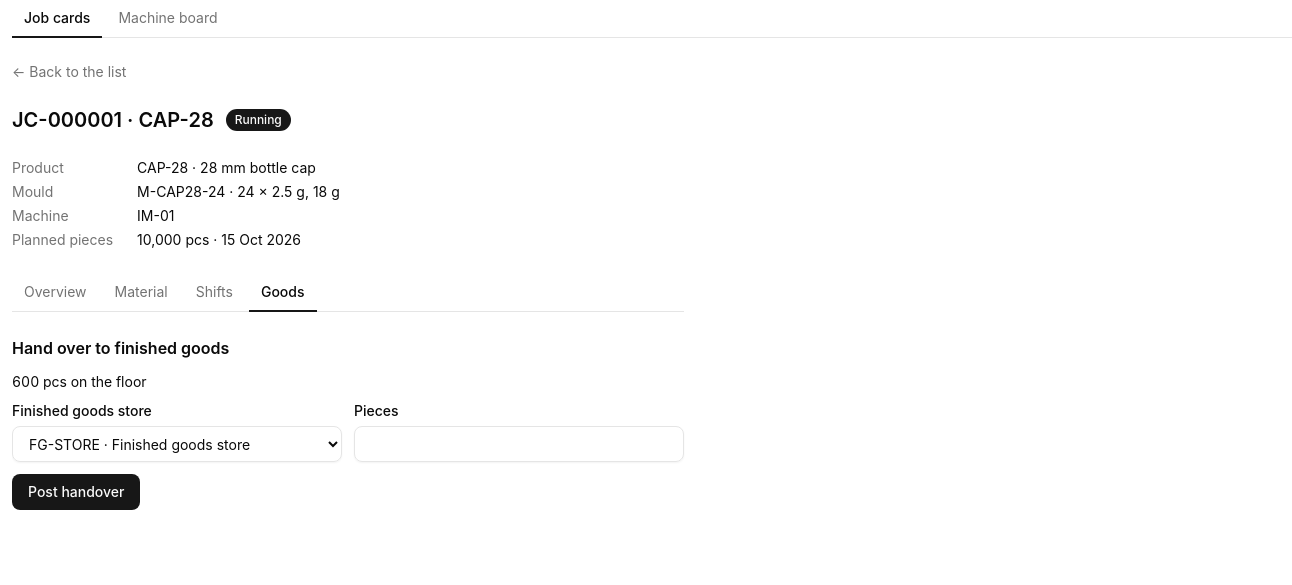
job card page › hands good pieces over to finished goods
Expected: the text "600 pcs on the floor" is shown, [12,373,147,390]
Type "600" into the field labelled "Pieces" at (519, 444), box [354,426,684,462]
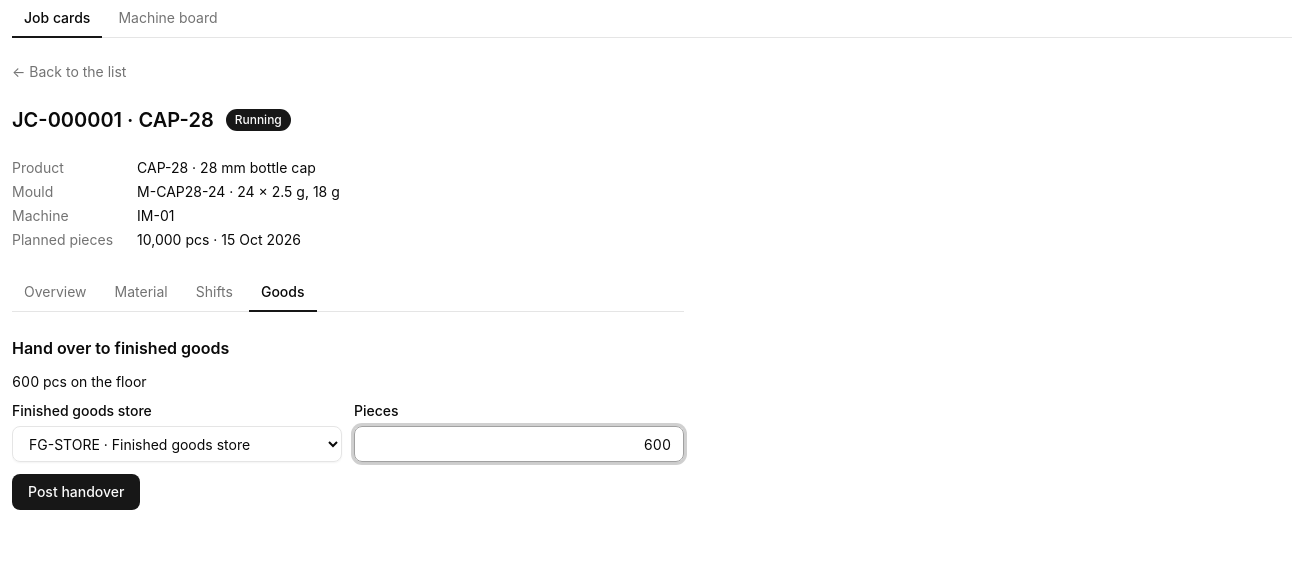
Click the button "Post handover" at (76, 492), box [12,474,140,510]
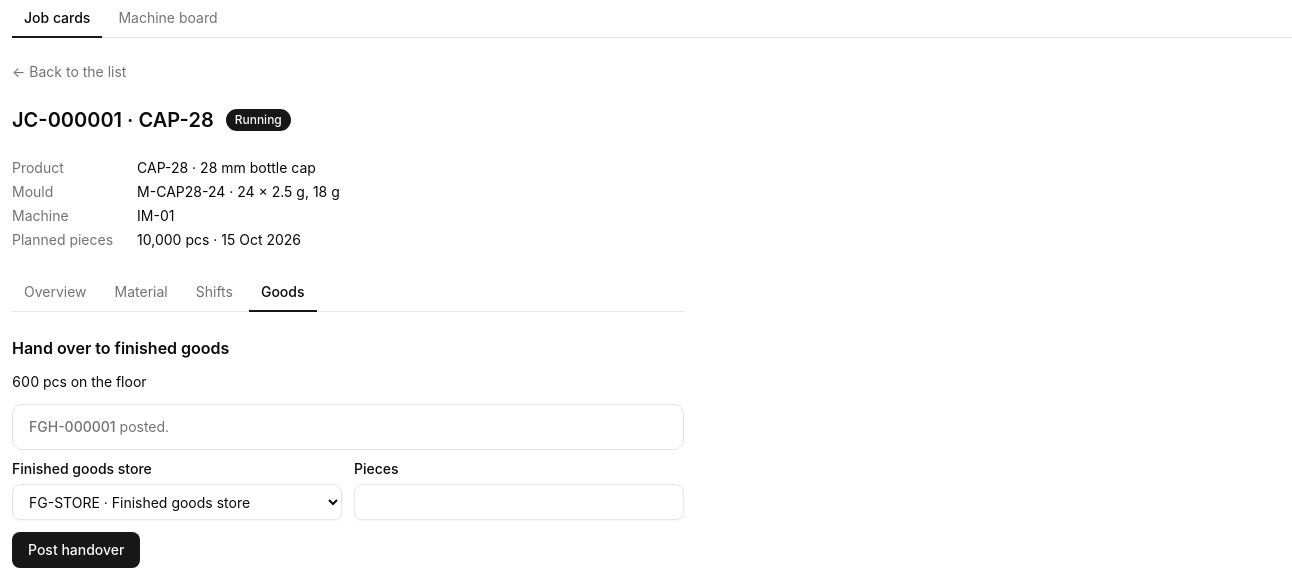
Now the link "FGH-000001" is shown, box [29,418,116,435]
